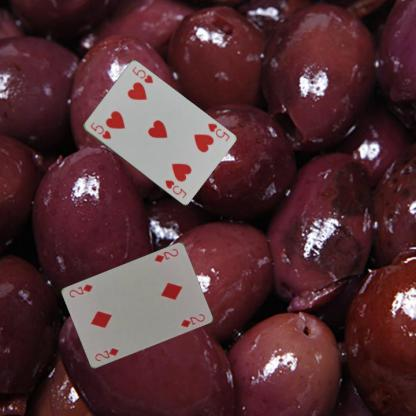2d: (92, 345, 120, 363), (152, 246, 180, 264)
5h: (205, 120, 231, 142), (87, 119, 112, 140)
